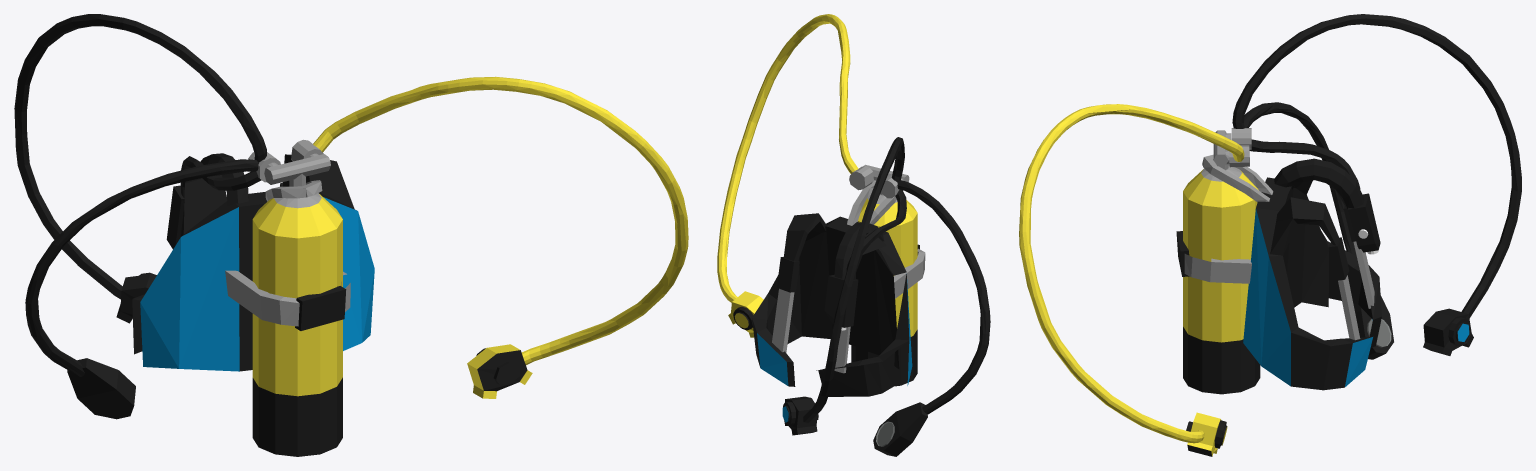
File: scubaSet.glb
The picture shows the model from 3 angles, left to right: view 1: azimuth 30°, elevation 25°; view 2: azimuth 150°, elevation 25°; view 3: azimuth 270°, elevation 25°; orthographic projection. The views are drawn at different scales.
Visible parts, largest first — view 1: scubaSet:Node; view 2: scubaSet:Node; view 3: scubaSet:Node.
Boxes of the visible parts, x1,y1,x2,y2 form: scubaSet:Node: (14,14,688,456); scubaSet:Node: (717,14,990,456); scubaSet:Node: (1019,14,1521,456).
Bounding box in the file's own units: 1.71 × 1.34 × 1.76.
